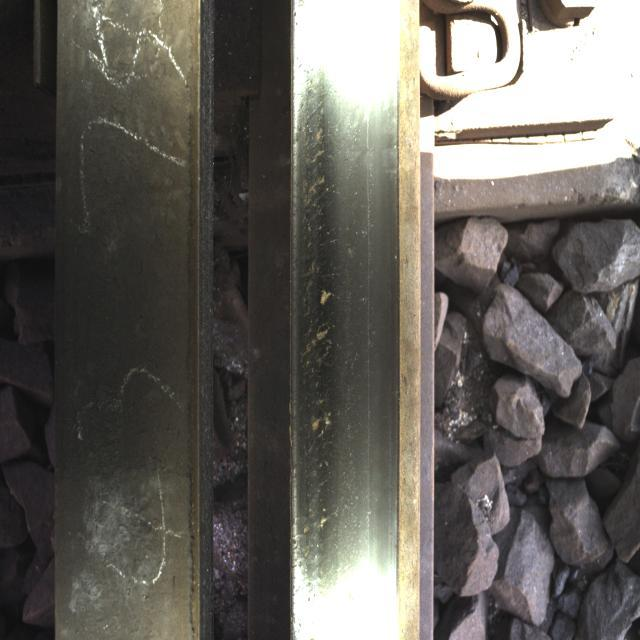scar: (292, 44, 352, 578)
